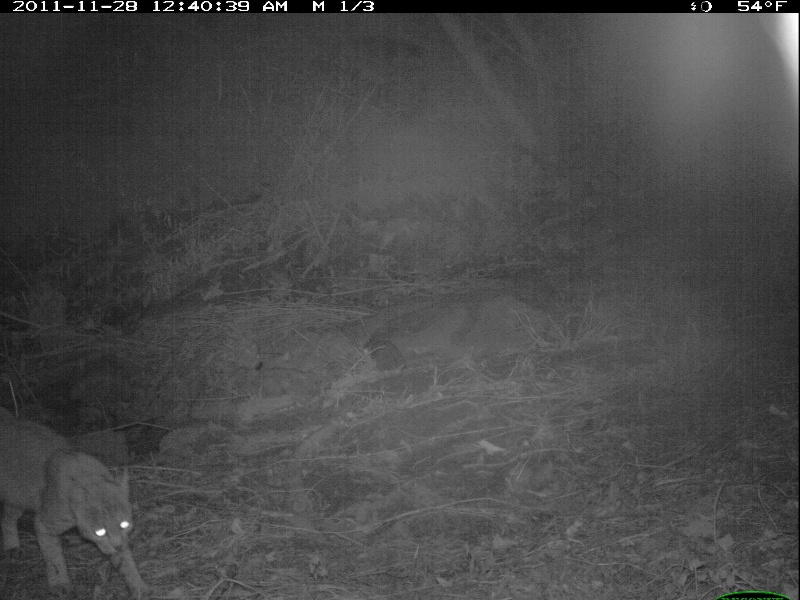cat: (1, 403, 162, 599)
